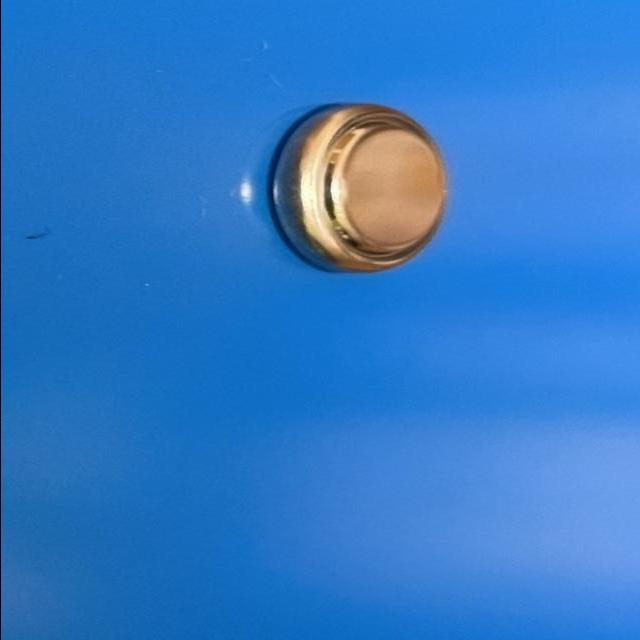COIN: (262, 103, 453, 274)
